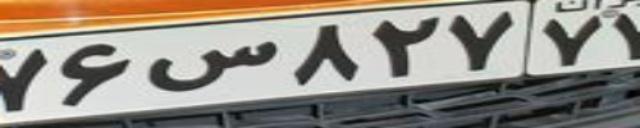2: (371, 15, 438, 79)
6: (57, 41, 131, 106)
7: (449, 8, 516, 72), (539, 13, 601, 66), (1, 46, 50, 112), (611, 12, 636, 60)
8: (292, 22, 360, 85)
sin: (146, 40, 278, 92)
